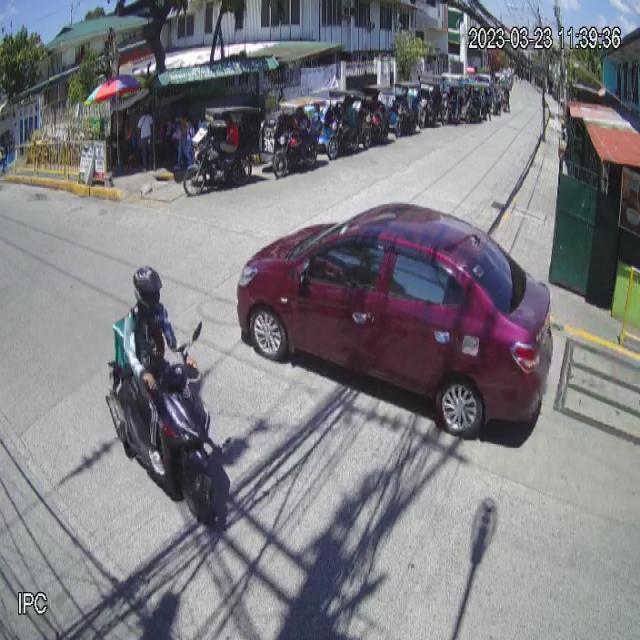Car: (235, 201, 554, 444)
Motorcycle: (104, 320, 230, 526)
